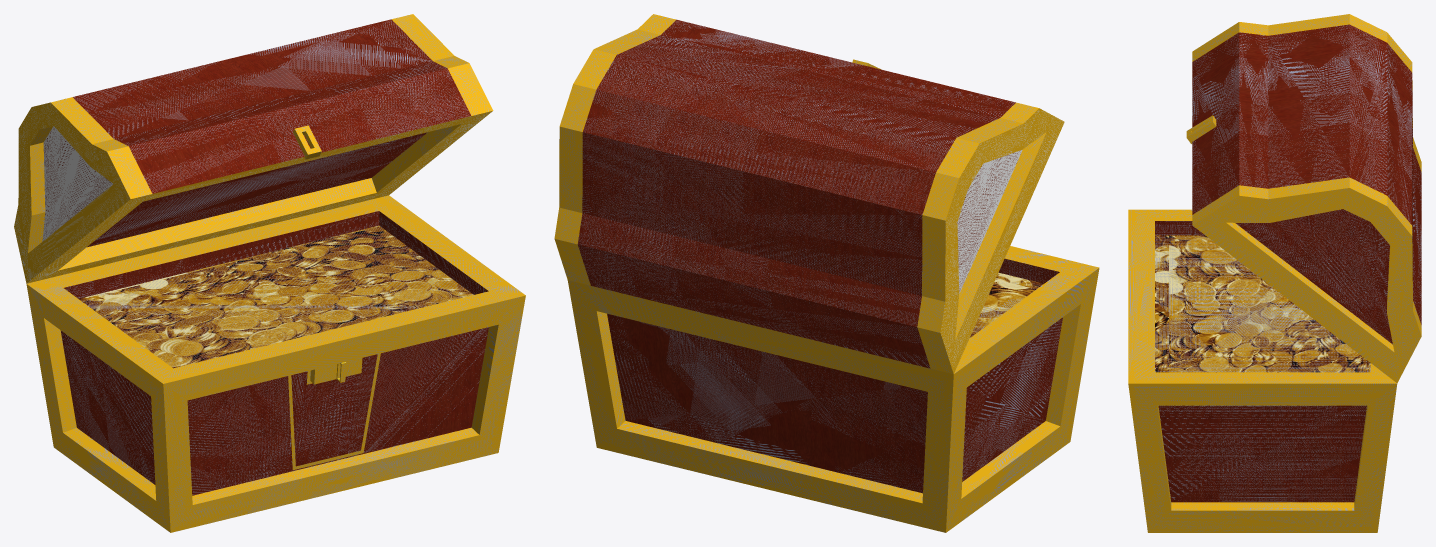
3 renders of one model, left to right at view 1: azimuth 30°, elevation 25°; view 2: azimuth 150°, elevation 25°; view 3: azimuth 270°, elevation 25°, orthographic. The views are drawn at different scales.
Parts seen in each view (by area): view 1: SketchUp (×13); view 2: SketchUp (×10); view 3: SketchUp (×9).
Part boxes in pixels (x1,y1,x2,y2): SketchUp (×13): (14,14,525,532); SketchUp (×10): (554,14,1099,532); SketchUp (×9): (1128,14,1421,532).
Size of the model in its own units: 26.44 by 18.85 by 25.05.
Materials: 6 (2 with a texture image).
